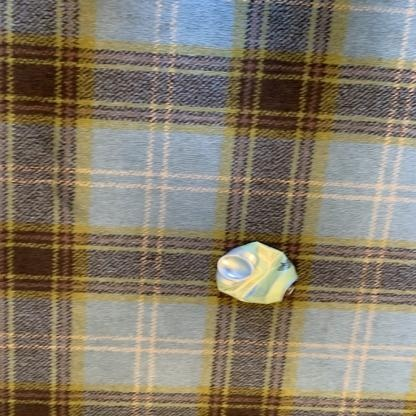trash: (216, 242, 297, 303)
